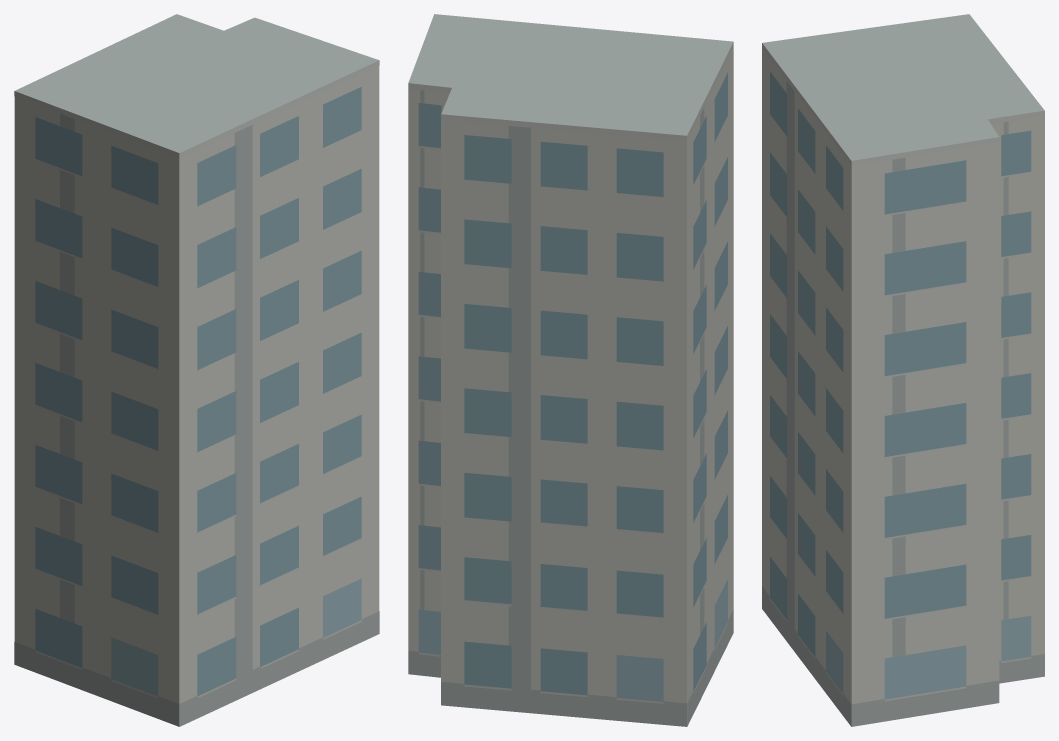
Rendered from survey-upis-32569040.glb.
The picture shows the model from 3 angles, left to right: view 1: azimuth 30°, elevation 25°; view 2: azimuth 150°, elevation 25°; view 3: azimuth 270°, elevation 25°; orthographic projection. The views are drawn at different scales.
Parts seen in each view (by area): view 1: survey-upis-32569040.tmp; view 2: survey-upis-32569040.tmp; view 3: survey-upis-32569040.tmp.
Part boxes in pixels (x1,y1,x2,y2): survey-upis-32569040.tmp: (14,14,379,726); survey-upis-32569040.tmp: (408,14,733,726); survey-upis-32569040.tmp: (762,14,1044,726).
Bounding box in the file's own units: 14.04 × 25.2 × 11.42.
